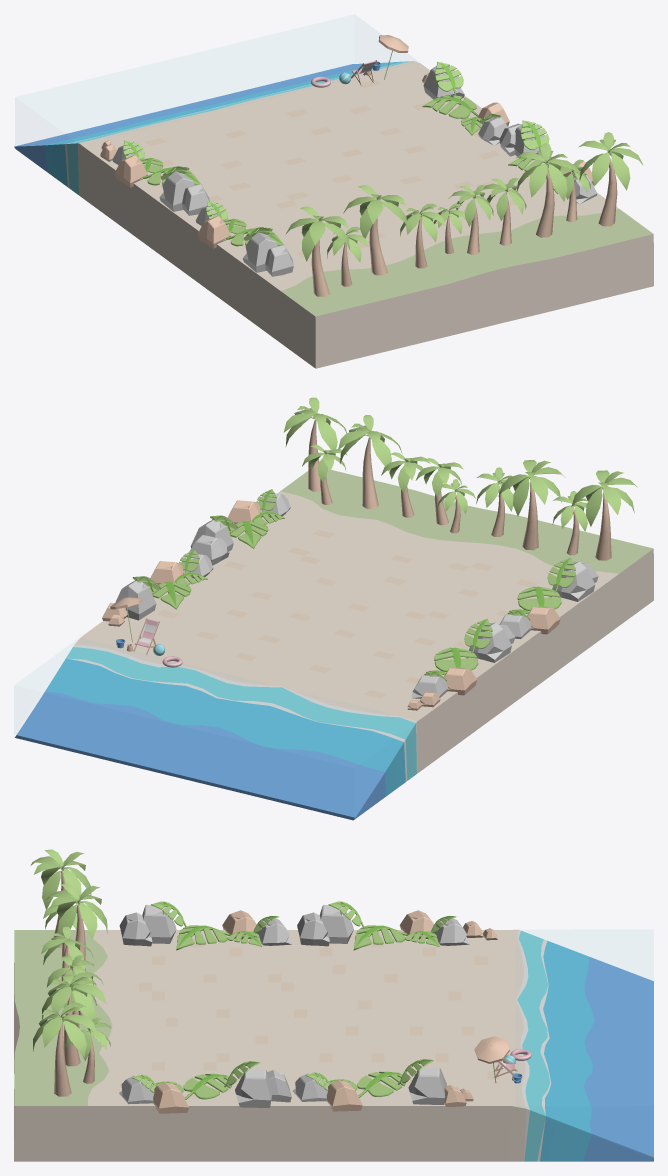
Rendered from archero total (1).fbx.
3 views of the same model, one above another, from view 1: azimuth 30°, elevation 25°; view 2: azimuth 150°, elevation 25°; view 3: azimuth 270°, elevation 25° (orthographic). The views are drawn at different scales.
Parts seen in each view (by area): view 1: beach, beach_tree_decor_7 (×2), beach_tree_decor_5 (×2), pCube2 (×3), beach_tree_decor_9 (×2), beach_tree_decor_10 (×2), beach_tree_decor_6 (×2), pCube4 (×2), pCube1 (×2), leaf3 (×2), leaf, pCube3; view 2: beach, beach_tree_decor_7 (×2), beach_tree_decor_5 (×2), leaf (×4), pCube2 (×3), beach_tree_decor_9 (×2), beach_tree_decor_6 (×2), beach_tree_decor_10 (×2), pCube4 (×2), leaf3 (×2), pCube1, pCube3; view 3: beach, pCube2 (×4), beach_tree_decor_5 (×2), beach_tree_decor_7 (×2), leaf (×4), pCube4 (×4), pCube3 (×4), pCube1 (×3), beach_tree_decor_6, beach_tree_decor_9, Umbrella, beach_tree_decor_10.
Part boxes in pixels (x1,y1,x2,y2): beach: (14, 61, 653, 368); beach_tree_decor_7 (×2): (343, 143, 580, 275); beach_tree_decor_5 (×2): (286, 132, 643, 296); pCube2 (×3): (159, 62, 464, 272); beach_tree_decor_9 (×2): (400, 178, 526, 268); beach_tree_decor_10 (×2): (433, 185, 493, 254); beach_tree_decor_6 (×2): (327, 159, 590, 286); pCube4 (×2): (114, 155, 231, 248); pCube1 (×2): (182, 184, 293, 276); leaf3 (×2): (434, 62, 549, 150); leaf: (422, 95, 478, 118); pCube3: (478, 116, 507, 145); beach: (14, 469, 653, 820); beach_tree_decor_7 (×2): (338, 415, 565, 550); beach_tree_decor_5 (×2): (283, 397, 637, 560); leaf (×4): (149, 521, 561, 671); pCube2 (×3): (115, 561, 595, 662); beach_tree_decor_9 (×2): (381, 452, 513, 536); beach_tree_decor_6 (×2): (302, 444, 597, 555); beach_tree_decor_10 (×2): (415, 458, 475, 533); pCube4 (×2): (444, 606, 560, 695); leaf3 (×2): (464, 557, 575, 658); pCube1: (189, 535, 229, 565); pCube3: (411, 675, 448, 698); beach: (14, 929, 653, 1161); pCube2 (×4): (142, 904, 446, 1107); beach_tree_decor_5 (×2): (30, 849, 97, 1096); beach_tree_decor_7 (×2): (42, 883, 107, 1066); leaf (×4): (176, 925, 406, 1099); pCube4 (×4): (152, 910, 433, 1113); pCube3 (×4): (119, 918, 469, 1104); pCube1 (×3): (119, 912, 329, 1102); beach_tree_decor_6: (65, 1017, 110, 1083); beach_tree_decor_9: (41, 926, 93, 980); Umbrella: (474, 1036, 509, 1082); beach_tree_decor_10: (46, 955, 94, 1025).
Bounding box in the file's own units: 51.32 × 18.77 × 75.33.
